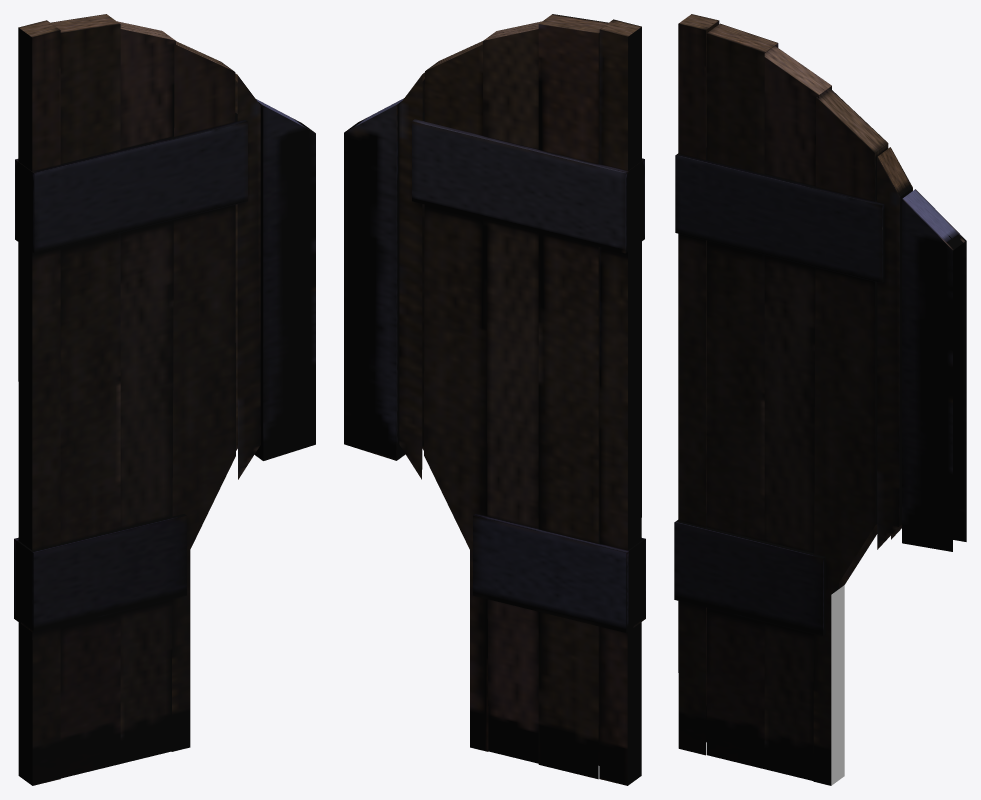
The model's file is DoorSide1.obj.
3 renders of one model, left to right at view 1: azimuth 30°, elevation 25°; view 2: azimuth 150°, elevation 25°; view 3: azimuth 330°, elevation 25°, orthographic. The views are drawn at different scales.
Parts seen in each view (by area): view 1: object 2; view 2: object 2; view 3: object 2, DoorSide1_Cube.424.
Boxes of the visible parts, x1,y1,x2,y2 form: object 2: (14,14,315,785); object 2: (344,14,645,785); object 2: (674,14,966,785); DoorSide1_Cube.424: (831,585,844,785).
Bounding box in the file's own units: 107 × 268 × 12.66.
